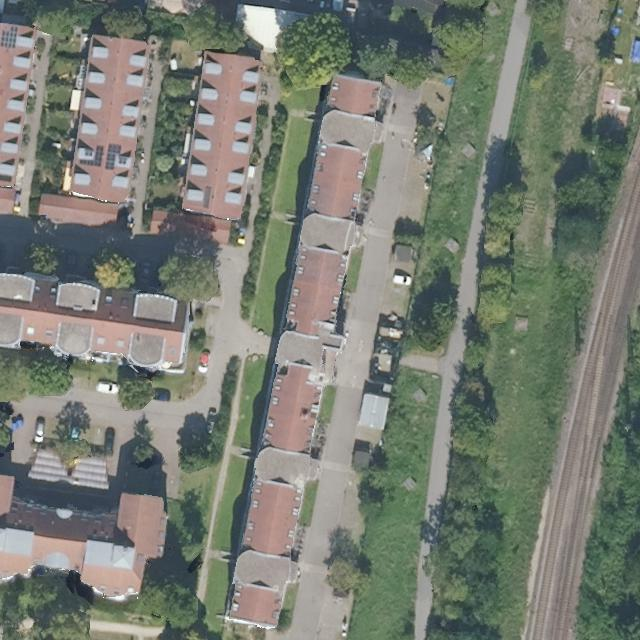PV: (76, 141, 106, 169), (104, 142, 123, 171)
